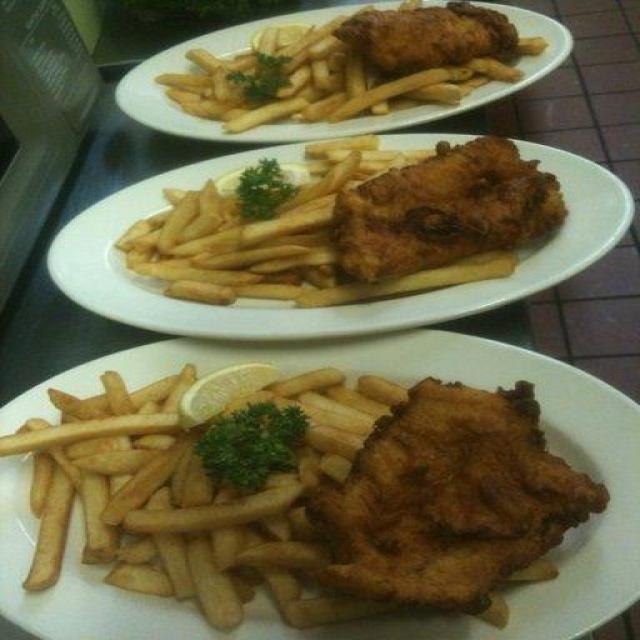food_waste: (4, 368, 609, 640), (29, 137, 609, 326), (115, 13, 564, 130)
